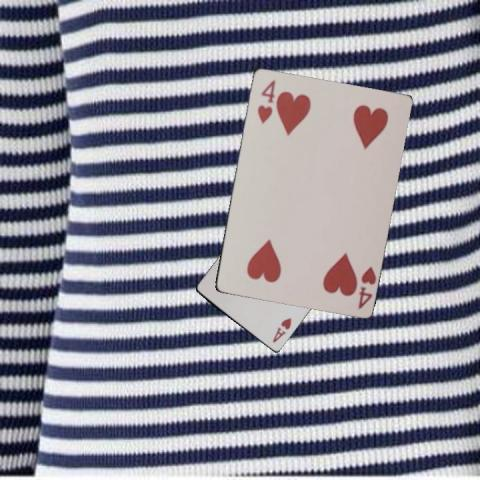4h: (254, 76, 277, 125), (354, 263, 376, 311)
Ah: (269, 314, 293, 344)
